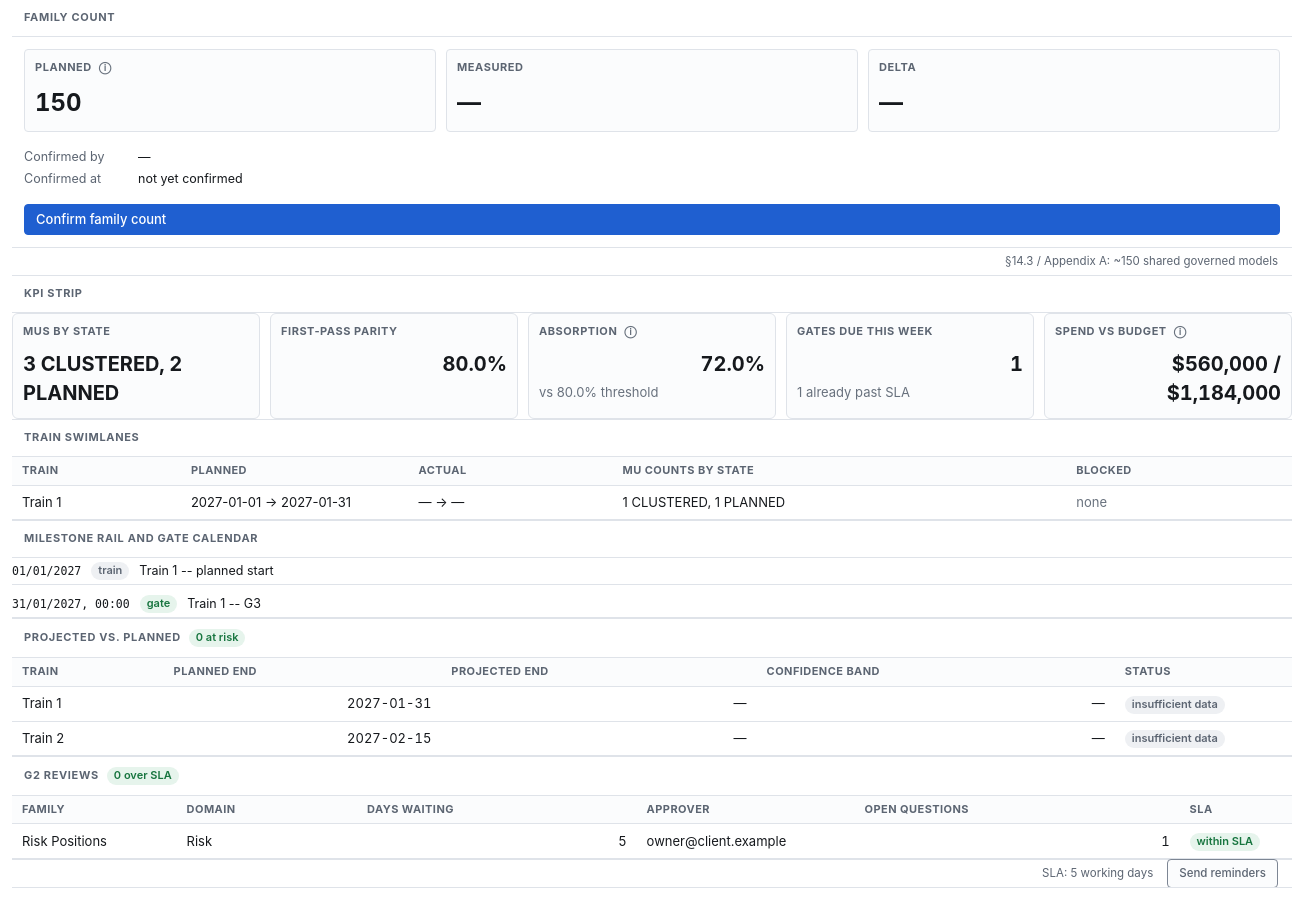
Test: G2 cycle time (S4.2.2) › sends due reminders and reports none due on a second click
expect the element named "G2 cycle time" is shown: met, box 12,757 -> 1291,887
Step 1. Click the button "Send reminders" → click(1223, 873), box 1167,859 -> 1278,888
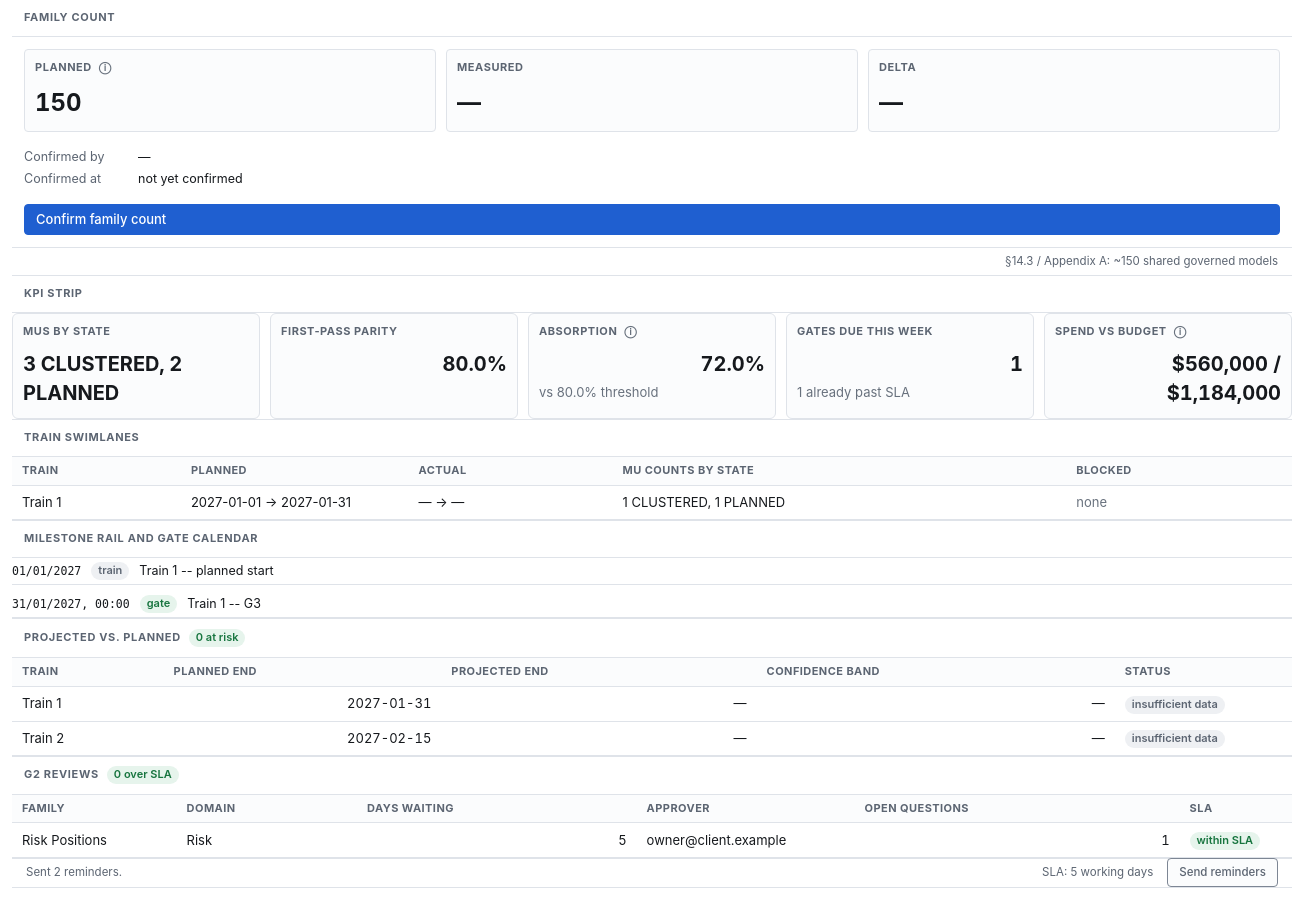
expect the text "Sent 2 reminders." is shown: met, box 26,864 -> 122,881
Step 2. Click the button "Send reminders" → click(1223, 872), box 1167,858 -> 1278,887
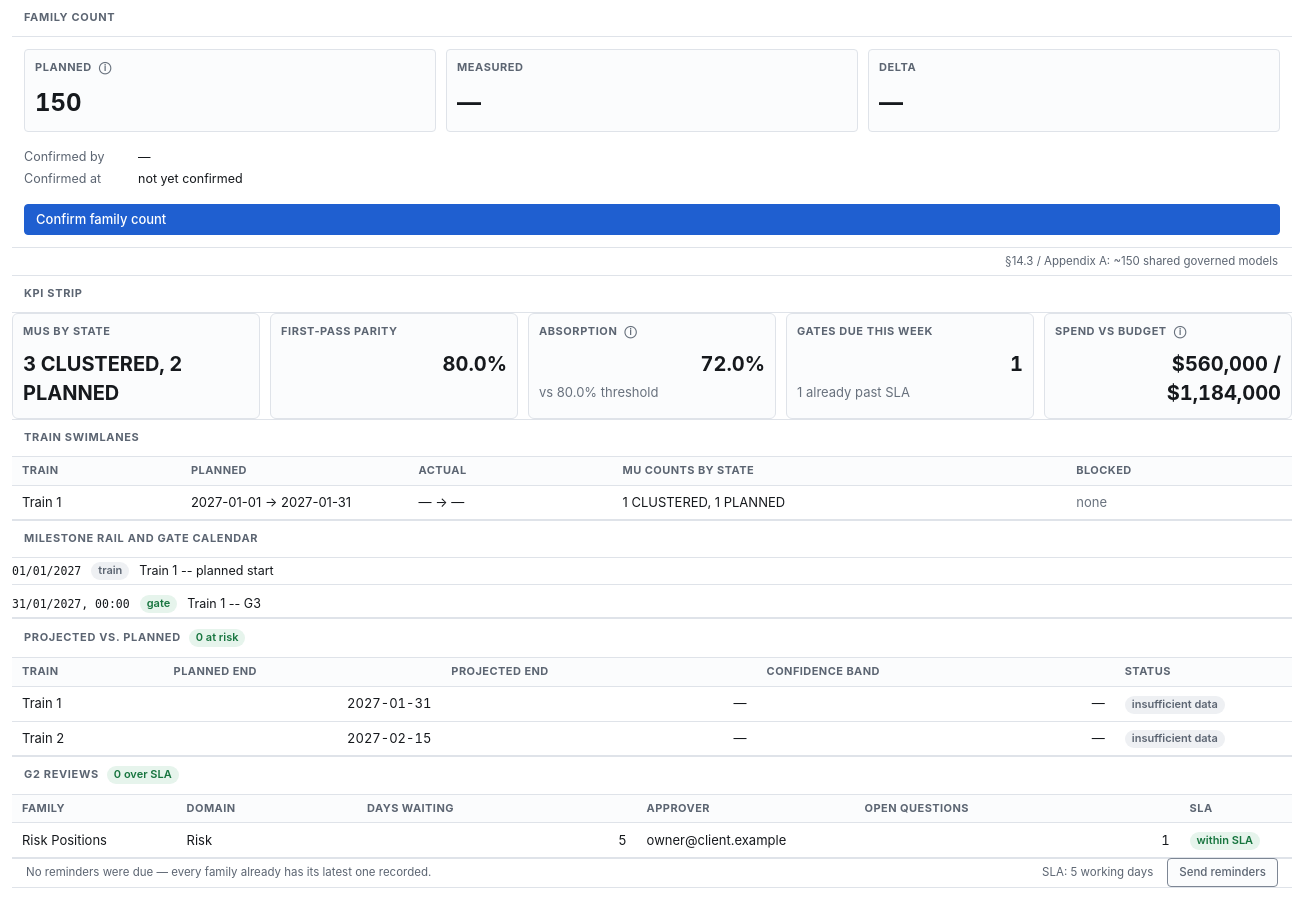
expect the text "No reminders were due" is shown: met, box 26,865 -> 431,879
